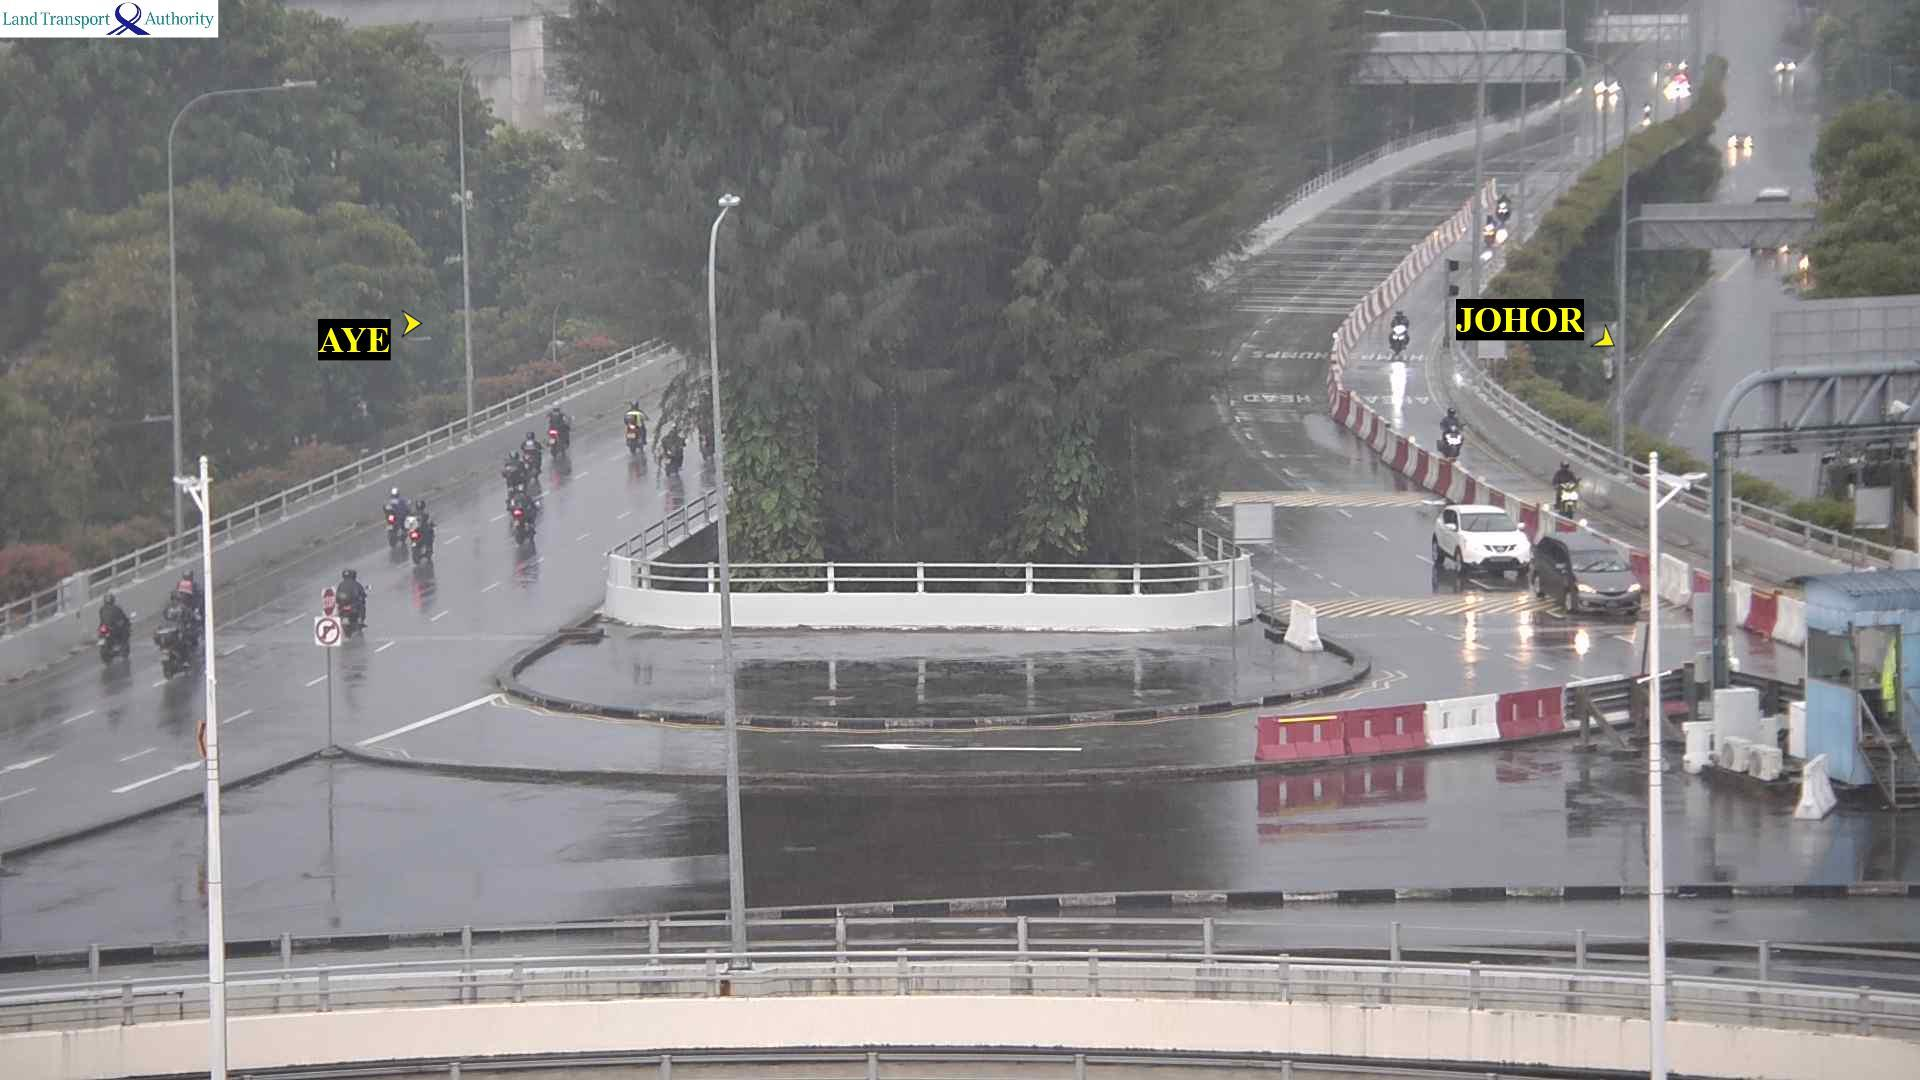vehicle-secondlink-johor: (1524, 539, 1652, 618), (1433, 498, 1527, 582), (1552, 459, 1581, 520), (1439, 405, 1462, 459), (1390, 310, 1411, 351), (1497, 193, 1511, 224), (1484, 211, 1497, 243)
vehicle-secondlink-singapore: (160, 592, 194, 680), (95, 595, 131, 659), (338, 568, 368, 630), (411, 500, 435, 558), (509, 487, 535, 538), (382, 487, 407, 538), (624, 404, 646, 454), (502, 452, 529, 495), (175, 566, 199, 609), (547, 410, 570, 452), (662, 423, 678, 476), (520, 433, 541, 471)
